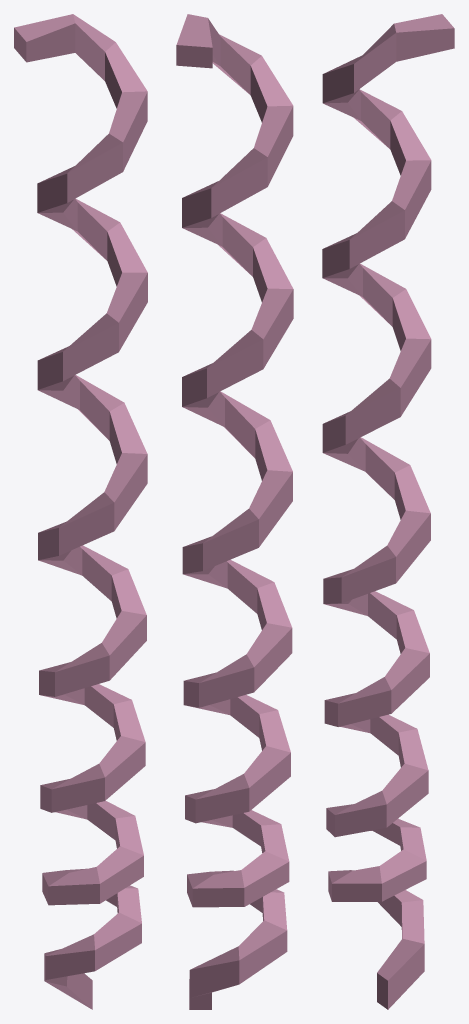
The model's file is SM_Prop_Streamer_01.glb.
3 views of the same model, side by side, from view 1: azimuth 90°, elevation 25°; view 2: azimuth 150°, elevation 25°; view 3: azimuth 270°, elevation 25° (orthographic). The views are drawn at different scales.
Visible parts, largest first — view 1: SM_Prop_Streamer_01; view 2: SM_Prop_Streamer_01; view 3: SM_Prop_Streamer_01.
Part boxes in pixels (bbox=[...]): SM_Prop_Streamer_01: bbox=[14, 14, 147, 1009]; SM_Prop_Streamer_01: bbox=[176, 14, 293, 1009]; SM_Prop_Streamer_01: bbox=[322, 14, 454, 1009].
Bounding box in the file's own units: 0.0796 × 0.7884 × 0.0967.
Materials: 1 (1 with a texture image).
